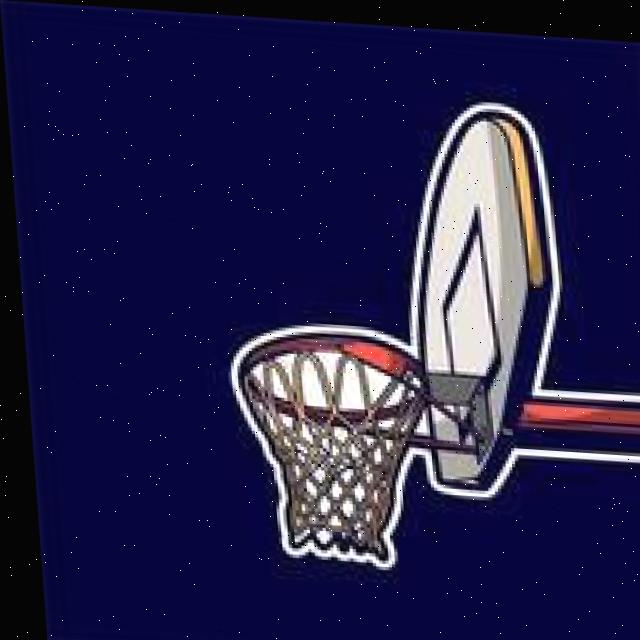hoop: (234, 328, 444, 565)
